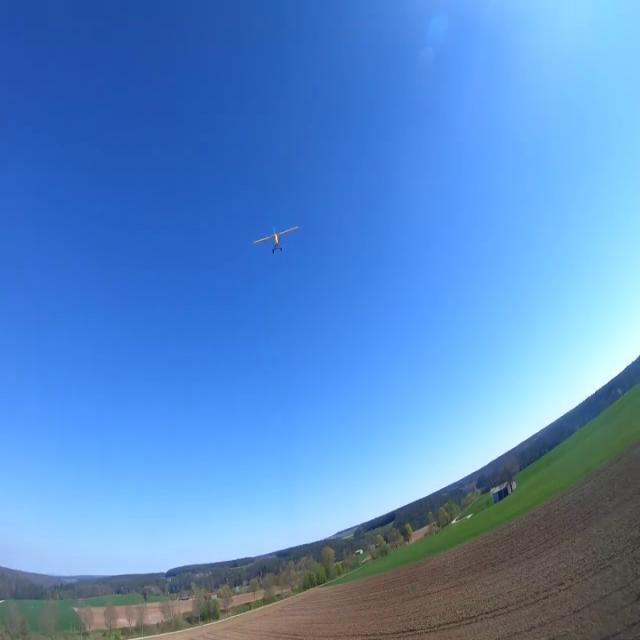iha: (248, 221, 300, 253)
